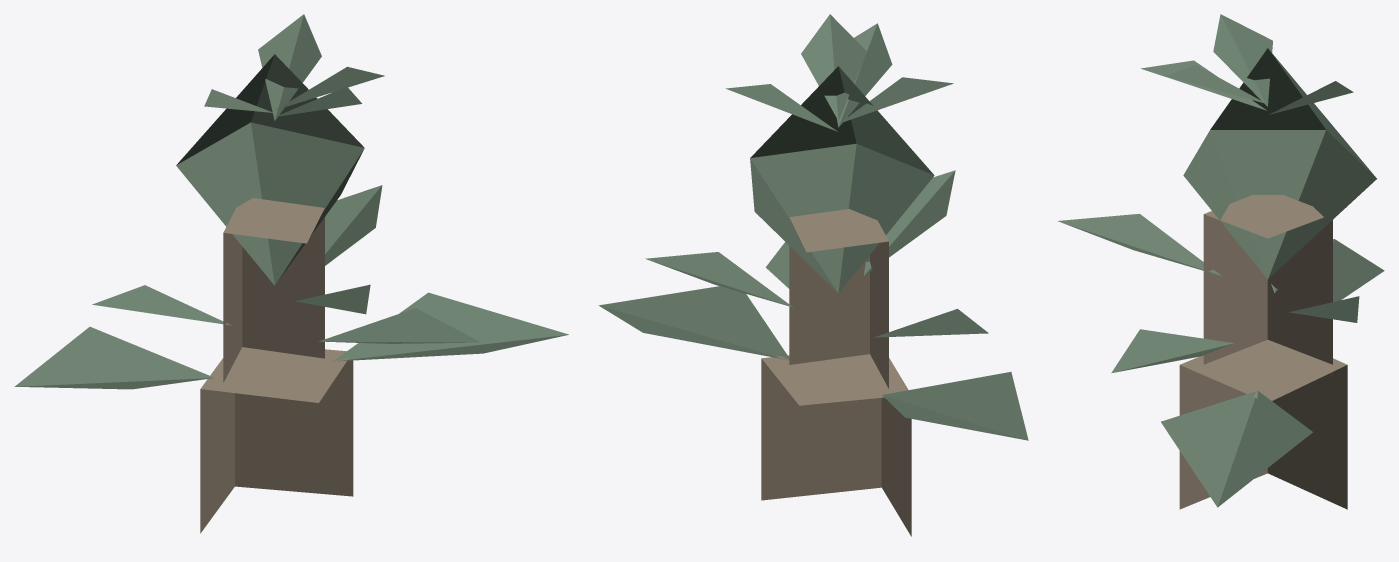
File: shui.kucao@seedling__winter.glb
3 renders of one model, left to right at view 1: azimuth 30°, elevation 25°; view 2: azimuth 150°, elevation 25°; view 3: azimuth 270°, elevation 25°, orthographic.
Parts seen in each view (by area): view 1: shui.kucao@seedling__winter; view 2: shui.kucao@seedling__winter; view 3: shui.kucao@seedling__winter.
Part boxes in pixels (bbox=[...]): shui.kucao@seedling__winter: bbox=[14, 14, 568, 533]; shui.kucao@seedling__winter: bbox=[598, 14, 1028, 536]; shui.kucao@seedling__winter: bbox=[1058, 14, 1384, 509].
Bounding box in the file's own units: 0.1065 × 0.0948 × 0.0609.
